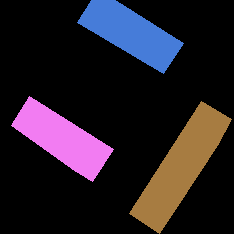parkingspot: (129, 101, 231, 233), (11, 96, 113, 181), (77, 0, 183, 73)
